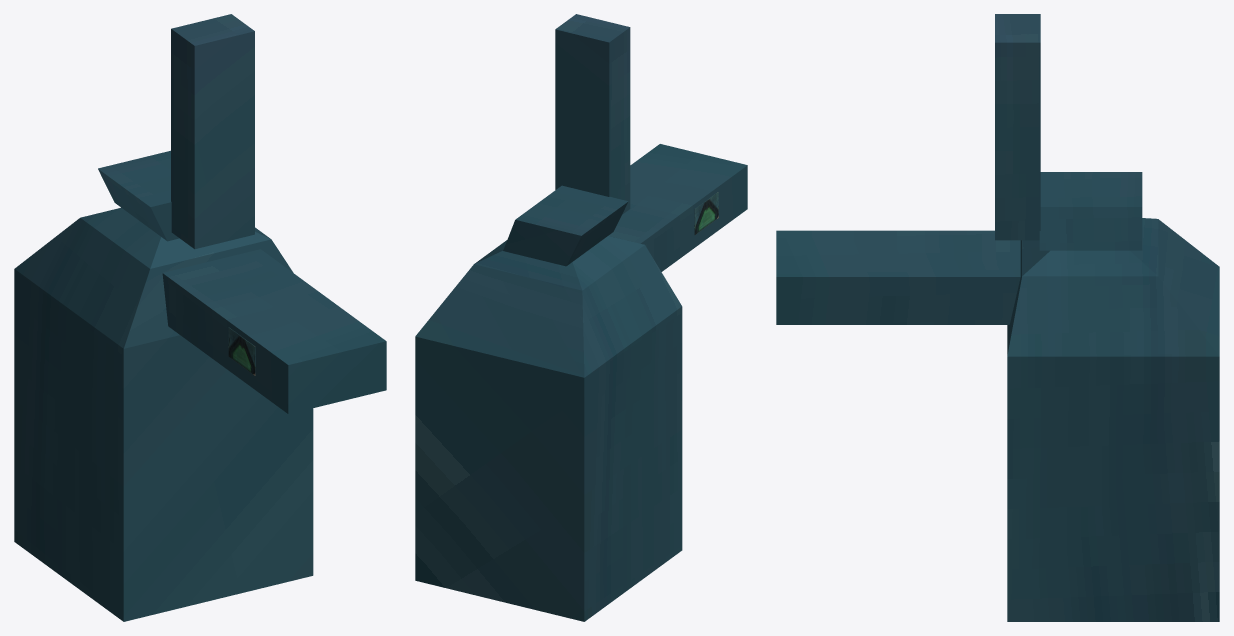
Rendered from QED.glb.
The picture shows the model from 3 angles, left to right: view 1: azimuth 30°, elevation 25°; view 2: azimuth 150°, elevation 25°; view 3: azimuth 270°, elevation 25°; orthographic projection. The views are drawn at different scales.
Visible parts, largest first — view 1: Cube.003, Cube; view 2: Cube.003, Cube; view 3: Cube.003.
Part boxes in pixels (x1,y1,x2,y2): Cube.003: (14,14,386,621); Cube: (228,327,255,375); Cube.003: (415,14,747,621); Cube: (694,192,718,234); Cube.003: (776,14,1219,621).
Size of the model in its own units: 3.12 by 8.9 by 6.52.
Materials: 2 (2 with a texture image).
